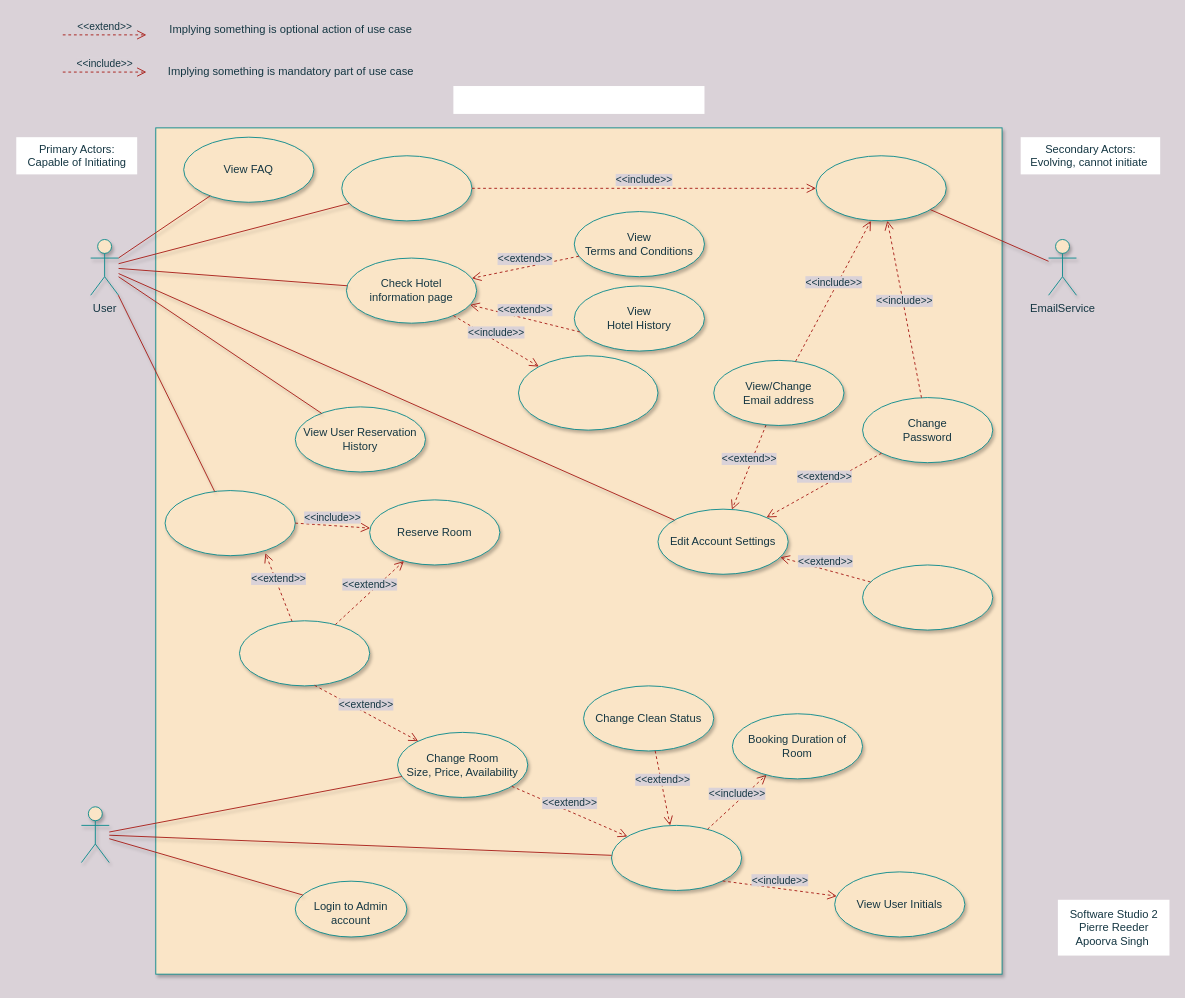
The diagram is 1185 pixels wide and 998 high, and some of its shapes have lost their labels. The shapes that lost their labels are listed below. From the top down, each one's centre as x and y in pixels, then its label:
At pixel 578 99: "System Boundary: Hotel Management System".
At pixel 407 189: "Login/Sign up to User account".
At pixel 881 189: "Confirmation message".
At pixel 589 394: "Check Hotel Contact Information Email, Phone, Address".
At pixel 230 524: "View Hotel Floors and Rooms".
At pixel 928 598: "View user information Name, Phone no".
At pixel 305 654: "View Room Details Size, Price, Availibilty".
At pixel 96 835: "Admin".
At pixel 677 859: "View Room Status Cleaned, Booked".
